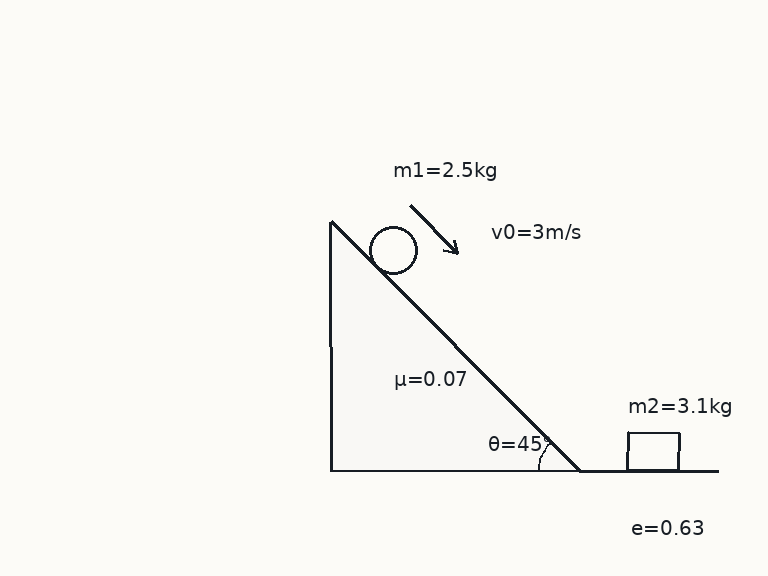ball: (367, 224, 419, 276)
block: (625, 431, 681, 472)
ramp: (329, 220, 581, 472)
